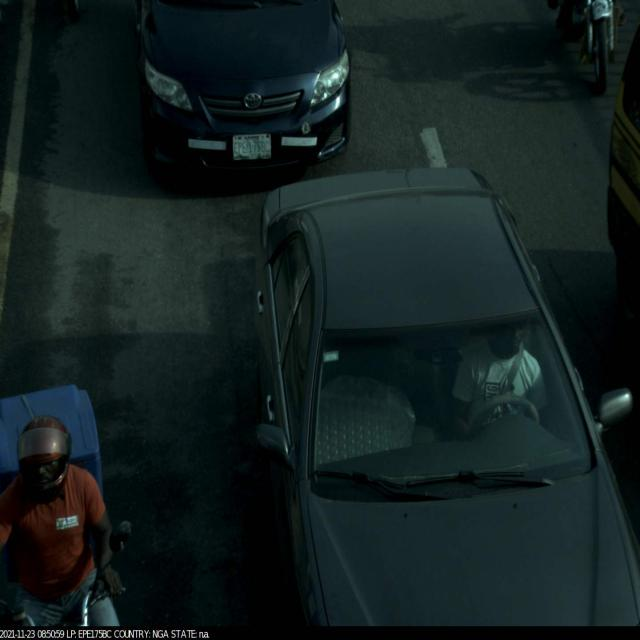windshield: (299, 308, 602, 517)
